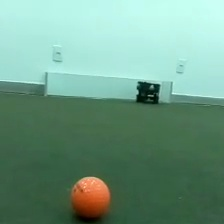ball: (67, 174, 113, 221)
goal: (42, 69, 174, 104)
robot: (134, 79, 161, 105)
